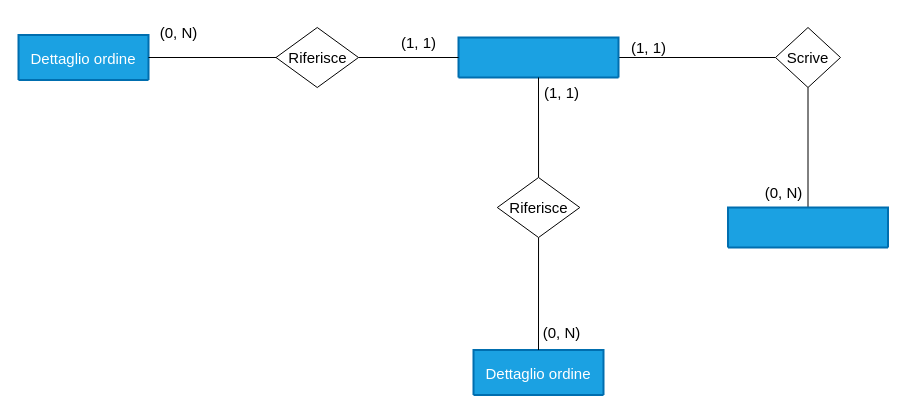
This 906x413 diagram has some shape labels left out. Here are the shapes that lost their labels. From the top down, the centre of each, then its label:
the point at 538,57: Recensione
the point at 807,227: Utente
